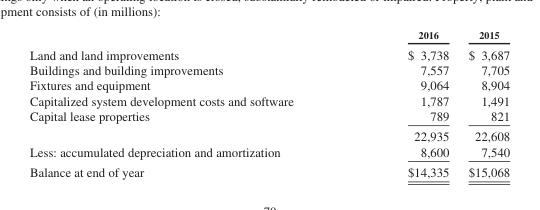table: (28, 28, 509, 178)
table column: (28, 28, 349, 178), (349, 28, 458, 178), (458, 28, 509, 178)
table column header: (28, 28, 509, 43)
table row: (28, 43, 509, 61), (28, 107, 509, 125), (28, 125, 509, 143), (28, 143, 509, 161), (28, 161, 509, 178), (28, 61, 509, 77), (28, 28, 509, 43), (28, 77, 509, 92), (28, 92, 509, 107)
